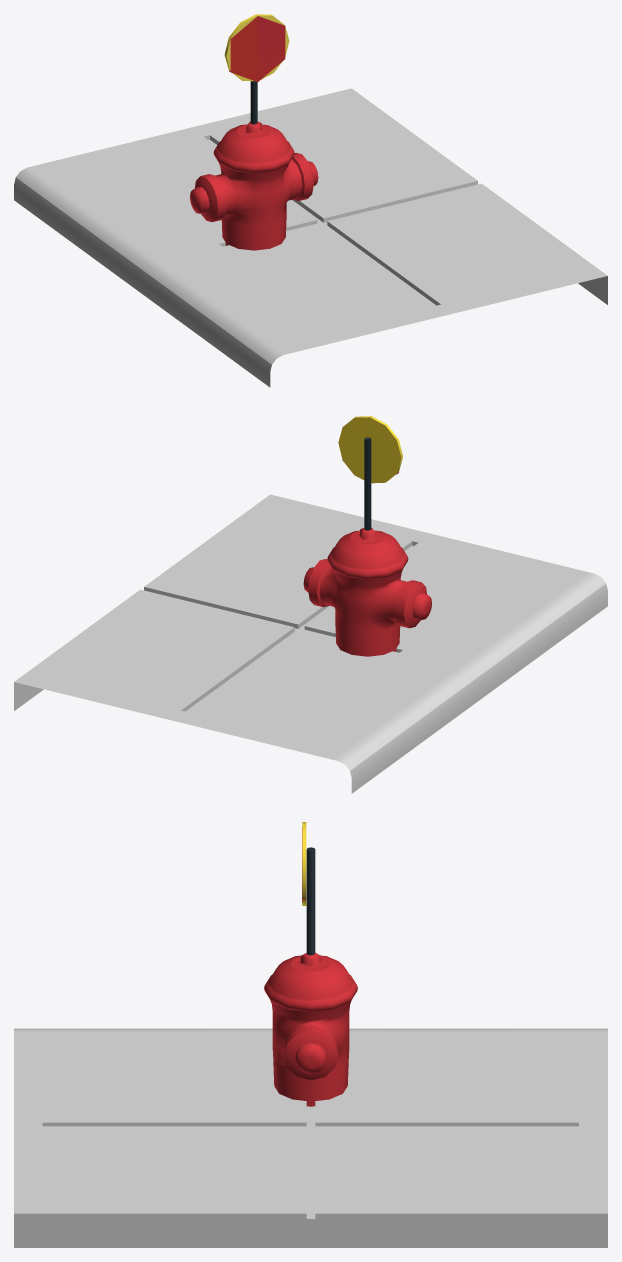
The model's file is Packcalcada.fbx.
The picture shows the model from 3 angles, top to bottom: view 1: azimuth 30°, elevation 25°; view 2: azimuth 150°, elevation 25°; view 3: azimuth 270°, elevation 25°; orthographic projection. The views are drawn at different scales.
Visible parts, largest first — view 1: SideWalk, Hidrante, PlacaPare, PlacaAtention; view 2: SideWalk, Hidrante, PlacaAtention, PlacaPare; view 3: SideWalk, Hidrante, PlacaPare.
Boxes of the visible parts, <box> form: SideWalk: <box>14,88,607,387</box>; Hidrante: <box>190,121,318,250</box>; PlacaPare: <box>229,16,285,124</box>; PlacaAtention: <box>224,14,289,81</box>; SideWalk: <box>14,494,607,793</box>; Hidrante: <box>303,527,431,656</box>; PlacaAtention: <box>338,416,402,483</box>; PlacaPare: <box>343,437,398,530</box>; SideWalk: <box>14,1028,607,1247</box>; Hidrante: <box>264,953,357,1106</box>; PlacaPare: <box>302,826,315,955</box>.
Size of the model in its own units: 302 by 217 by 396.
